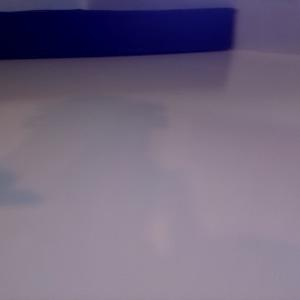zone: (1, 8, 236, 60)
